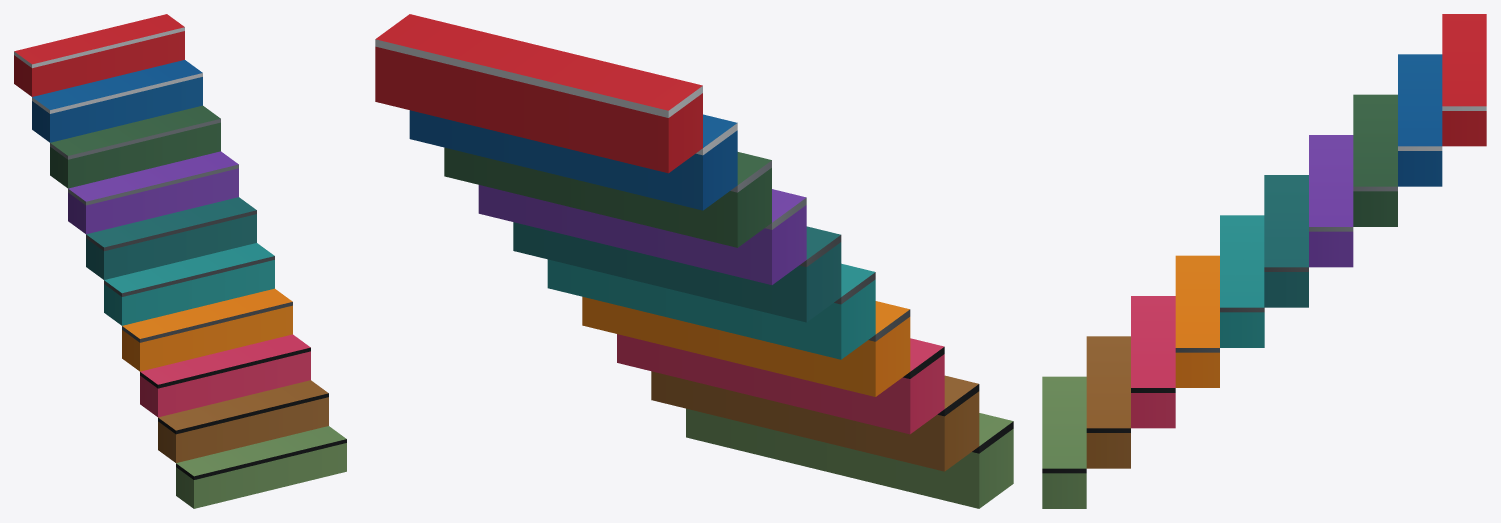
The model's file is ENV_Finish_Ramp.fbx.
3 renders of one model, left to right at view 1: azimuth 30°, elevation 25°; view 2: azimuth 150°, elevation 25°; view 3: azimuth 270°, elevation 25°, orthographic. The views are drawn at different scales.
Visible parts, largest first — view 1: ENV_Finish_Ramp; view 2: ENV_Finish_Ramp; view 3: ENV_Finish_Ramp.
Boxes of the visible parts, x1,y1,x2,y2 form: ENV_Finish_Ramp: (14,14,346,508); ENV_Finish_Ramp: (375,14,1013,508); ENV_Finish_Ramp: (1042,14,1486,508).
Size of the model in its own units: 9.82 by 20 by 20.
